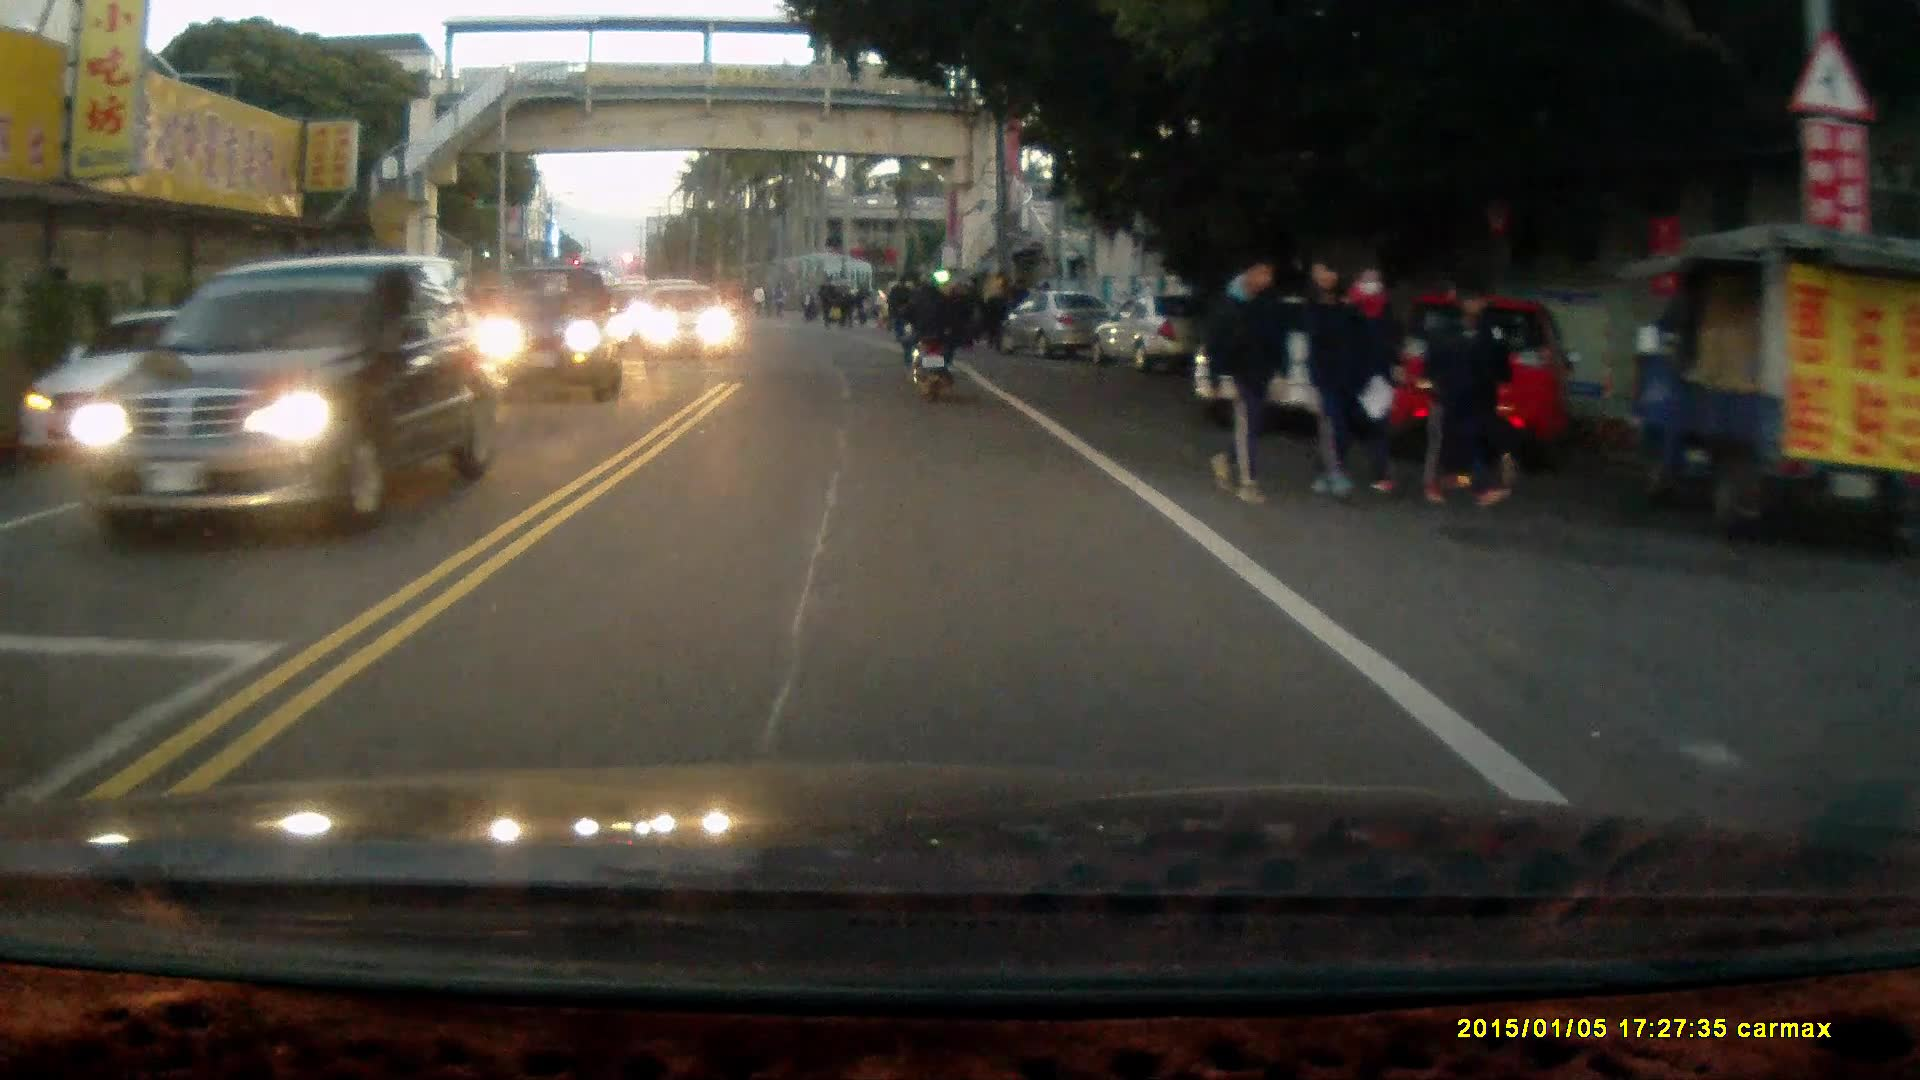pedestrian: (1199, 246, 1293, 509), (1299, 252, 1376, 511), (1425, 282, 1508, 513), (1330, 258, 1407, 494), (958, 269, 987, 351), (980, 283, 1009, 350), (948, 277, 972, 350)
rider: (891, 269, 959, 405)
vehicle: (92, 251, 492, 549), (1344, 287, 1576, 472), (1189, 284, 1408, 431), (474, 266, 626, 403), (1095, 289, 1212, 371), (1000, 291, 1119, 359), (644, 285, 739, 362)
